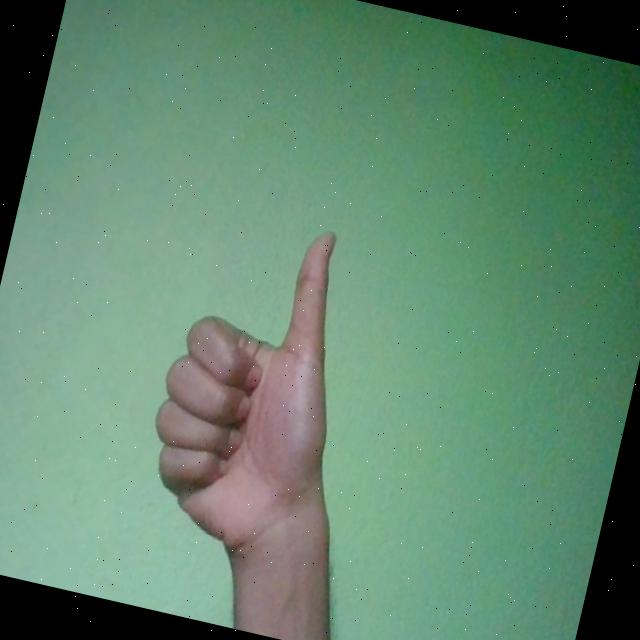Good Job: (128, 204, 374, 572)
